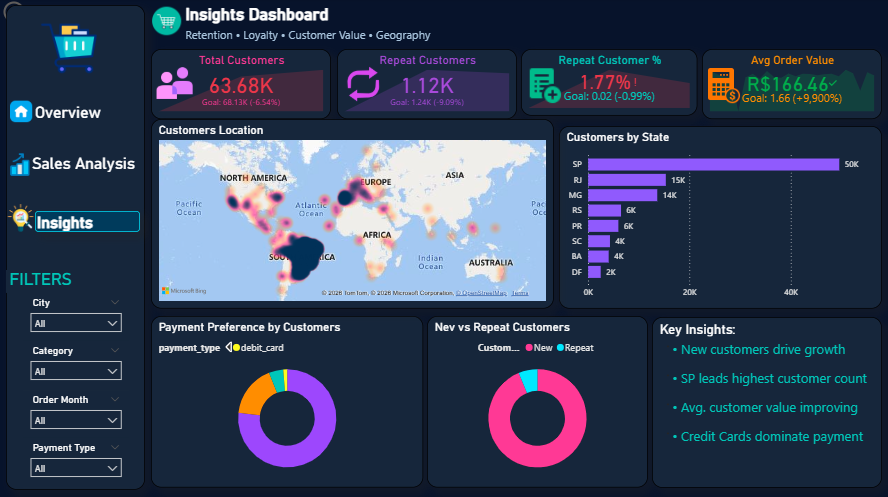

This screenshot's page, from the dashboard's own definition file:
{"tool":"powerbi","page":{"name":"Insights","canvas":[1280,720],"ordinal":2},"visuals":[{"type":"actionButton","box":[0,0,100,40],"z":0},{"type":"shape","title":"E-Commerce Revenue & Customer Intelligence Dashboard","box":[8.6,10.1,200.2,698.4],"z":1000},{"type":"textbox","title":"Insights Dashboard","box":[262.1,10.1,793.4,138.2],"z":2000},{"type":"kpi","title":"Total Customers","fields":{"Goal":["ecommerce_final.Target Customers"],"Indicator":["ecommerce_final.Total Customers"],"TrendLine":["ecommerce_final.order_purchase_timestamp.Variation.Date Hierarchy.Year"]},"box":[217.7,73.5,259.5,100.9],"z":3000},{"type":"kpi","title":"Repeat Customers","fields":{"TrendLine":["ecommerce_final.order_purchase_timestamp.Variation.Date Hierarchy.Year"],"Indicator":["ecommerce_final.Repeat Customers"],"Goal":["ecommerce_final.Target repeat customers"]},"box":[485,73.5,259.5,100.9],"z":4000},{"type":"kpi","title":"Repeat Customer %","fields":{"Indicator":["ecommerce_final.Avg Orders per Customer"],"TrendLine":["ecommerce_final.order_purchase_timestamp.Variation.Date Hierarchy.Year"],"Goal":["ecommerce_final.Repeat % target"]},"box":[749.7,74.1,254.3,95.9],"z":5000},{"type":"kpi","title":"Avg Order Value ","fields":{"Indicator":["ecommerce_final.Avg Order Value"],"TrendLine":["ecommerce_final.Order Month"],"Goal":["ecommerce_final.Average Order Value Target"]},"box":[1010.5,73.5,259.5,100.9],"z":6000},{"type":"clusteredBarChart","title":"Customers by State","fields":{"Category":["ecommerce_final.customer_state"],"Y":["ecommerce_final.Total Customers"]},"box":[804.9,184.5,464.9,263],"z":7000},{"type":"donutChart","title":"Payment Preference by Customers","fields":{"Y":["ecommerce_intelligence.Total Revenue"],"Category":["ecommerce_intelligence.payment_type"]},"box":[217.9,457.7,392.3,247],"z":8000},{"type":"image","box":[217.7,10.1,44.7,46.1],"z":9000},{"type":"donutChart","title":"Nev vs Repeat Customers","fields":{"Category":["ecommerce_final.Customer Type"],"Y":["ecommerce_final.Total Orders"]},"box":[614.6,457.7,318.2,247],"z":10000},{"type":"slicer","title":"Order Month","fields":{"Values":["ecommerce_final.order_purchase_timestamp.Variation.Date Hierarchy.Month"]},"box":[33.1,564.5,152.6,69.1],"z":11000},{"type":"slicer","fields":{"Values":["ecommerce_final.product_category_name"]},"box":[33.1,493.9,152.6,70.6],"z":12000},{"type":"slicer","fields":{"Values":["ecommerce_final.payment_type"]},"box":[33.1,633.6,152.6,70.6],"z":13000},{"type":"slicer","fields":{"Values":["ecommerce_final.customer_city"]},"box":[33.1,424.8,152.6,69.1],"z":14000},{"type":"actionButton","title":"Overview","box":[50.4,151.2,148.3,38],"z":15000},{"type":"actionButton","title":"Sales Analysis","box":[46.5,225.2,158.4,33.4],"z":16000},{"type":"textbox","title":"FILTERS","box":[8.6,391.7,105.1,33.1],"z":17000},{"type":"actionButton","title":"Insights","box":[50.4,306.7,151.2,30.2],"z":18000},{"type":"image","box":[53.3,33.1,92.2,79.2],"z":19000},{"type":"image","box":[14.4,136.8,31.7,53.3],"z":20000},{"type":"image","box":[10.1,207.4,37.4,64.8],"z":21000},{"type":"image","box":[8.6,296.6,41.8,40.3],"z":22000},{"type":"image","box":[489.6,96.5,67.7,54.7],"z":24000},{"type":"image","box":[1004,95.9,68.3,55.2],"z":27000},{"type":"image","box":[745.3,98.8,72.6,52.3],"z":28000},{"type":"image","box":[217.9,95.9,68.3,52.3],"z":28001},{"type":"textbox","title":"Key Insights:","box":[938.6,459.1,331.3,245.5],"z":28002},{"type":"map","title":"Customers Location","fields":{"Category":["ecommerce_final.customer_city"]},"box":[217.9,174.3,579.7,273.1],"z":28003}]}

Visuals, with their boxes in screenshot pixels (x1, y1, x2, y2), scaled from the page's 1280x720 canvas onto the 888x497 screenshot:
actionButton: bbox=[0, 0, 69, 28]
"E-Commerce Revenue & Customer Intelligence Dashboard" shape: bbox=[6, 7, 145, 489]
"Insights Dashboard" textbox: bbox=[182, 7, 732, 102]
"Total Customers" kpi: bbox=[151, 51, 331, 120]
"Repeat Customers" kpi: bbox=[336, 51, 516, 120]
"Repeat Customer %" kpi: bbox=[520, 51, 697, 117]
"Avg Order Value " kpi: bbox=[701, 51, 881, 120]
"Customers by State" clusteredBarChart: bbox=[558, 127, 881, 309]
"Payment Preference by Customers" donutChart: bbox=[151, 316, 423, 486]
image: bbox=[151, 7, 182, 39]
"Nev vs Repeat Customers" donutChart: bbox=[426, 316, 647, 486]
"Order Month" slicer: bbox=[23, 390, 129, 437]
slicer - ecommerce_final.product_category_name: bbox=[23, 341, 129, 390]
slicer - ecommerce_final.payment_type: bbox=[23, 437, 129, 486]
slicer - ecommerce_final.customer_city: bbox=[23, 293, 129, 341]
"Overview" actionButton: bbox=[35, 104, 138, 131]
"Sales Analysis" actionButton: bbox=[32, 155, 142, 179]
"FILTERS" textbox: bbox=[6, 270, 79, 293]
"Insights" actionButton: bbox=[35, 212, 140, 233]
image: bbox=[37, 23, 101, 78]
image: bbox=[10, 94, 32, 131]
image: bbox=[7, 143, 33, 188]
image: bbox=[6, 205, 35, 233]
image: bbox=[340, 67, 387, 104]
image: bbox=[697, 66, 744, 104]
image: bbox=[517, 68, 567, 104]
image: bbox=[151, 66, 199, 102]
"Key Insights:" textbox: bbox=[651, 317, 881, 486]
"Customers Location" map: bbox=[151, 120, 553, 309]
